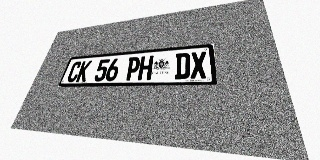5: (93, 59, 110, 81)
6: (104, 58, 121, 81)
C: (66, 61, 83, 82)
D: (174, 52, 190, 79)
H: (137, 55, 154, 80)
K: (75, 60, 92, 82)
P: (124, 56, 141, 81)
X: (190, 51, 207, 79)
